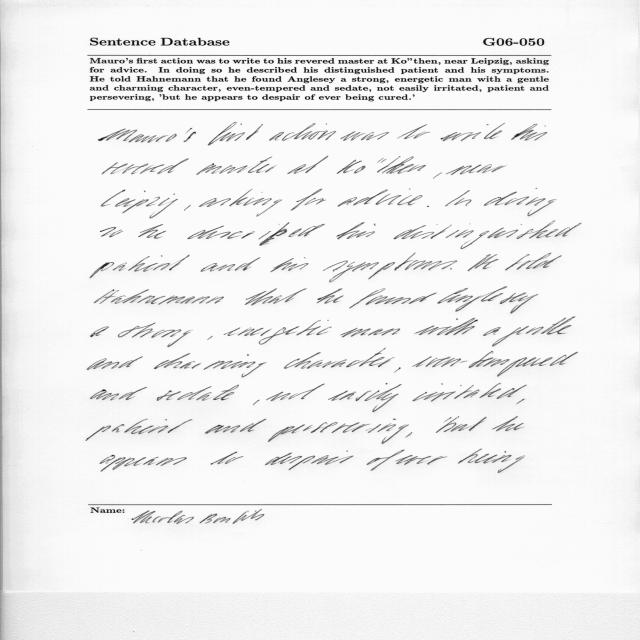word: (394, 221, 582, 249), (412, 351, 578, 377), (323, 253, 457, 283), (268, 418, 409, 444), (187, 222, 325, 246), (154, 353, 266, 378), (438, 287, 539, 314), (223, 320, 332, 345), (492, 317, 575, 347), (86, 418, 193, 441), (199, 189, 282, 217), (284, 348, 394, 369), (90, 255, 190, 278), (101, 190, 178, 219), (412, 383, 527, 402), (328, 383, 401, 412), (94, 289, 224, 305), (484, 189, 556, 217), (118, 323, 193, 347), (349, 289, 437, 309), (265, 451, 354, 470), (458, 449, 525, 473), (337, 156, 426, 174), (196, 156, 277, 175), (338, 189, 423, 207), (100, 455, 187, 472), (99, 128, 196, 143), (102, 159, 189, 175), (157, 385, 239, 401), (208, 123, 263, 146), (269, 123, 336, 141), (414, 318, 478, 335), (245, 289, 306, 306), (505, 253, 562, 271), (266, 384, 325, 401), (205, 419, 266, 434), (201, 257, 261, 272), (436, 416, 487, 433), (441, 124, 490, 141), (367, 450, 405, 471), (291, 189, 327, 211), (87, 357, 143, 371), (288, 156, 329, 174), (91, 387, 147, 400), (336, 222, 376, 239), (446, 164, 506, 175), (511, 124, 547, 141), (271, 257, 309, 272), (340, 328, 400, 337), (468, 254, 499, 271), (396, 455, 447, 465), (397, 124, 430, 139), (341, 131, 389, 141), (492, 417, 524, 432), (317, 288, 344, 304), (138, 224, 166, 239), (445, 190, 471, 206), (211, 452, 243, 465), (484, 123, 505, 139), (101, 227, 123, 237), (91, 327, 109, 337), (483, 327, 501, 336), (433, 172, 442, 179), (516, 399, 525, 404), (184, 205, 191, 211), (394, 367, 401, 373), (253, 400, 260, 406), (406, 432, 413, 438), (444, 417, 451, 422), (207, 336, 213, 340), (450, 268, 452, 270), (427, 206, 429, 207)
